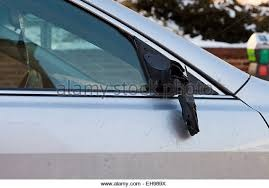Broken-glass: (143, 56, 195, 135)
